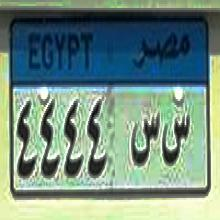4: (61, 95, 85, 183), (14, 96, 36, 185), (37, 98, 60, 183), (86, 94, 107, 184)
seen: (128, 106, 160, 174), (162, 112, 190, 173)
